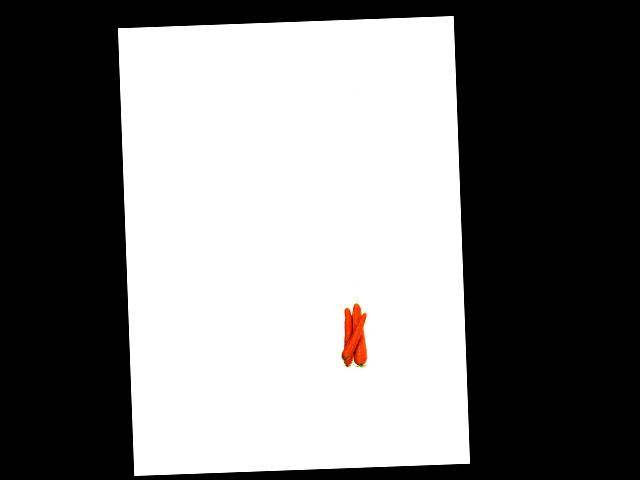carrot: (340, 305, 356, 371)
